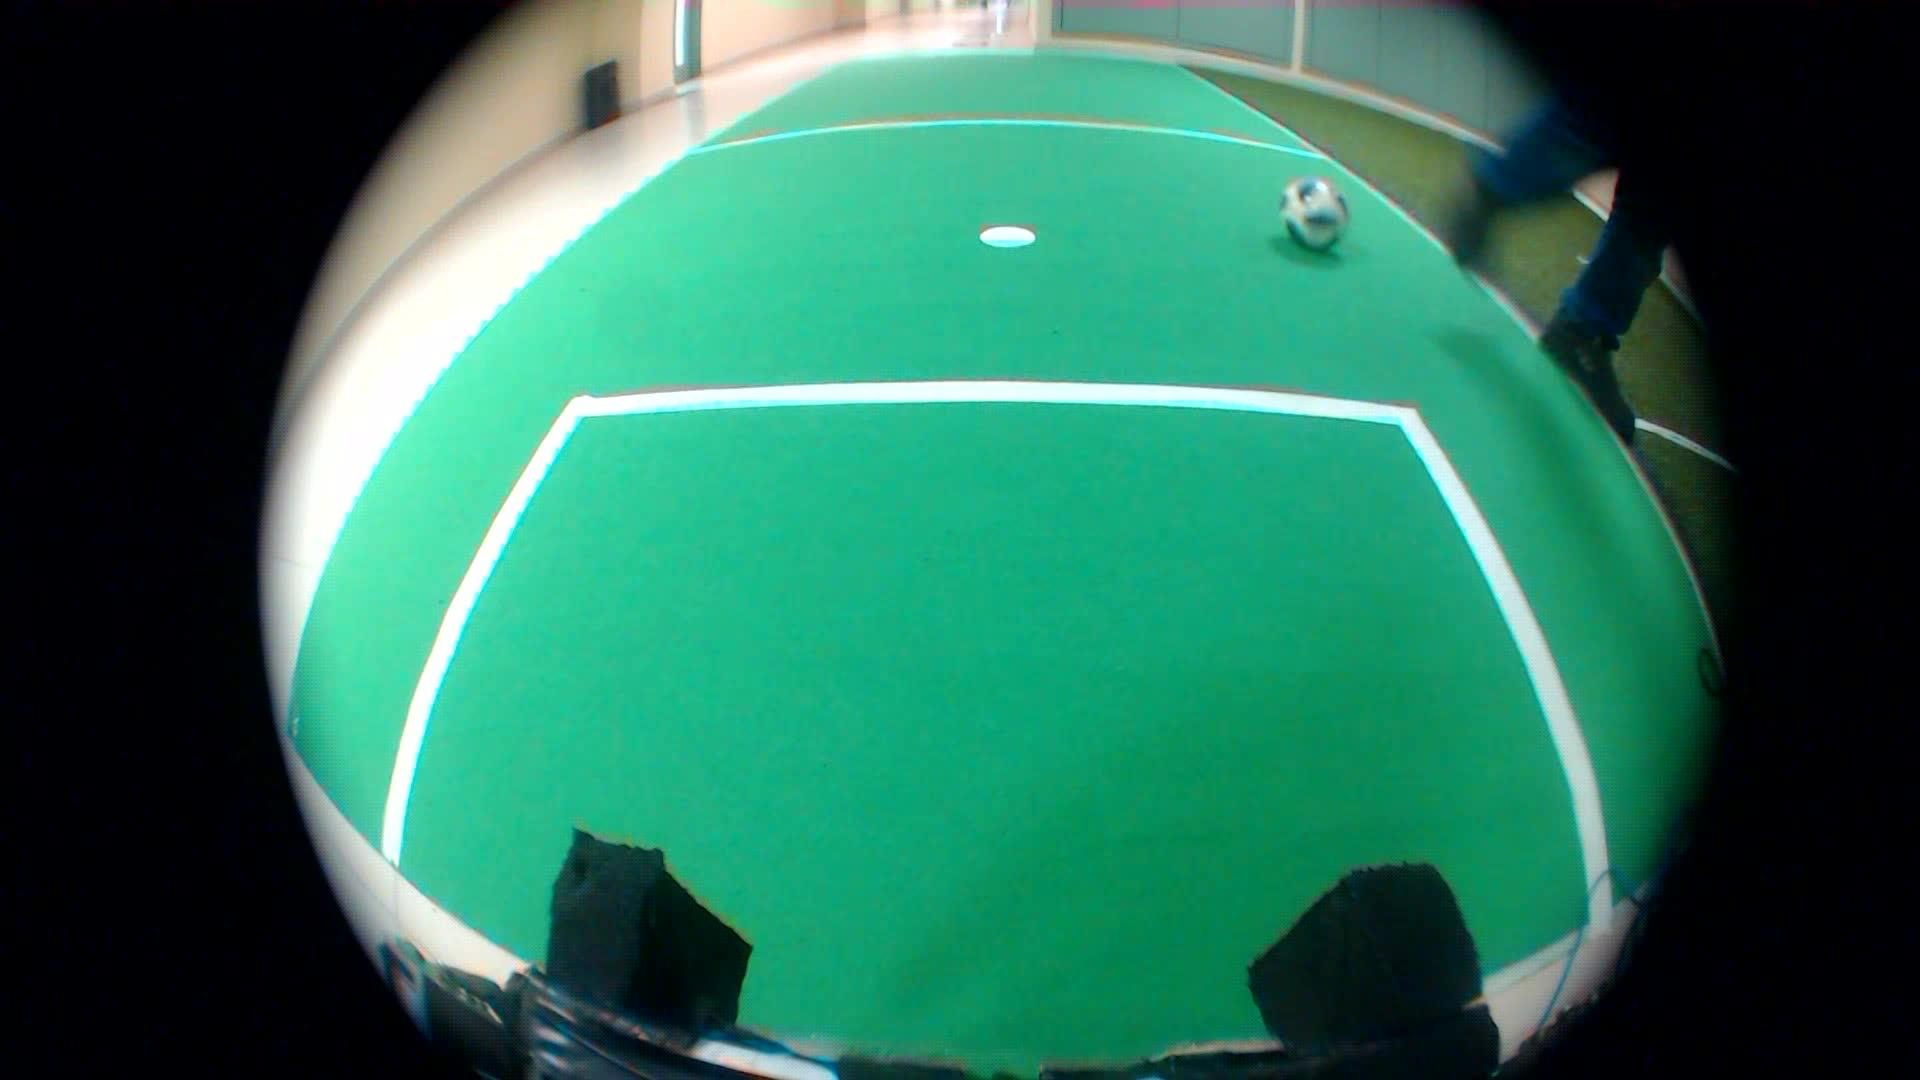ball: (1267, 157, 1367, 260)
